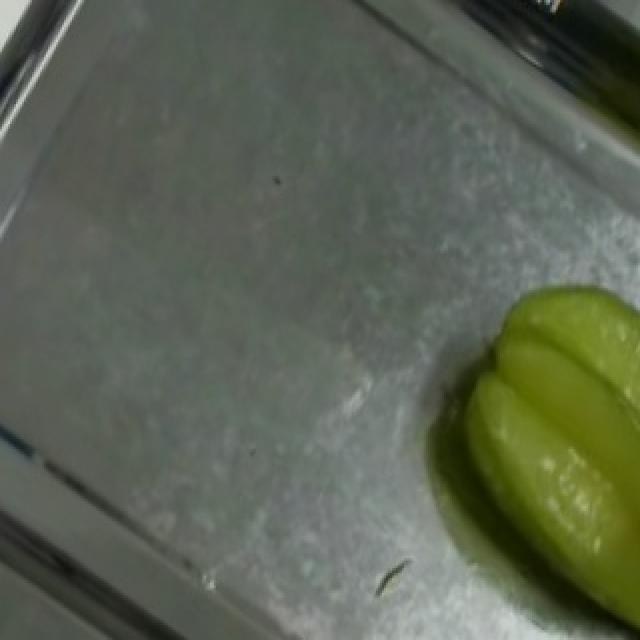fruit: (436, 241, 640, 610)
